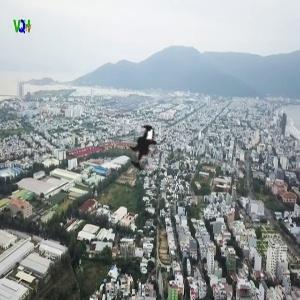drone: (111, 113, 186, 188)
